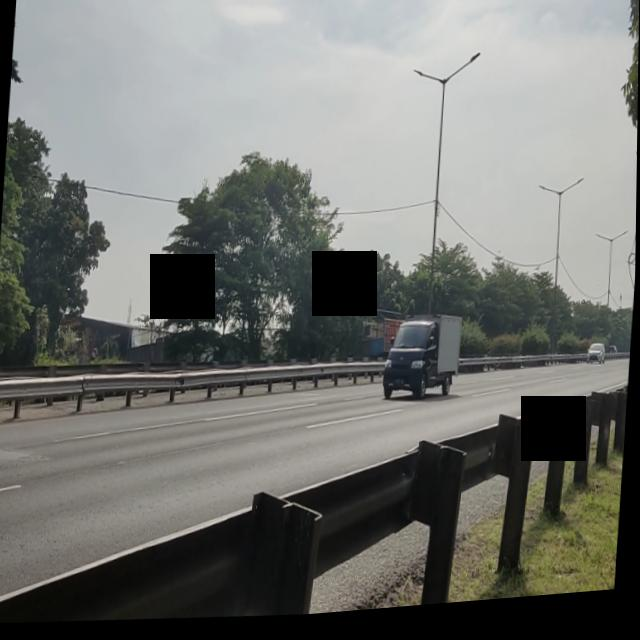Golongan I: (378, 308, 466, 417)
